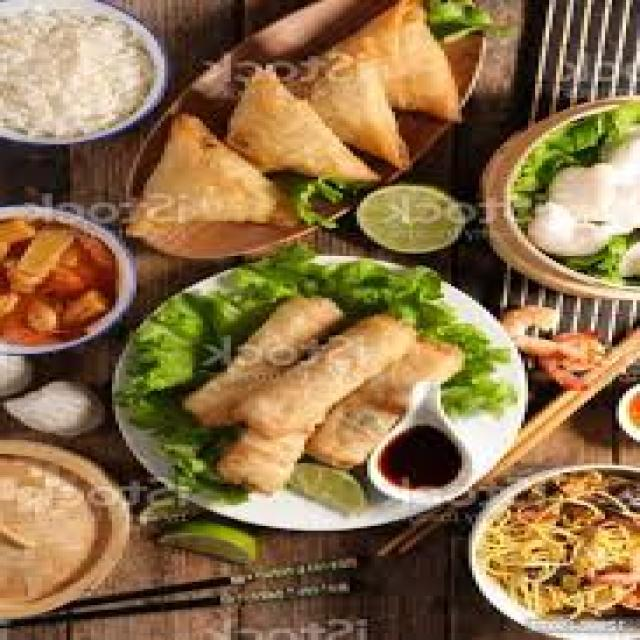Samosa: (123, 9, 486, 244)
Spring Rolls: (178, 307, 462, 491)
White Rice: (3, 2, 172, 142)
